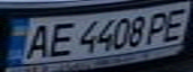0: (112, 15, 136, 49)
4: (75, 17, 100, 54), (97, 16, 118, 52)
8: (127, 12, 154, 47)
A: (18, 21, 57, 61)
E: (39, 19, 78, 58), (157, 4, 193, 42)
P: (142, 9, 175, 45)
